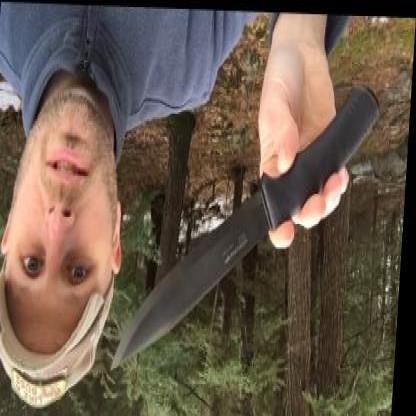knife: (111, 118, 317, 380)
